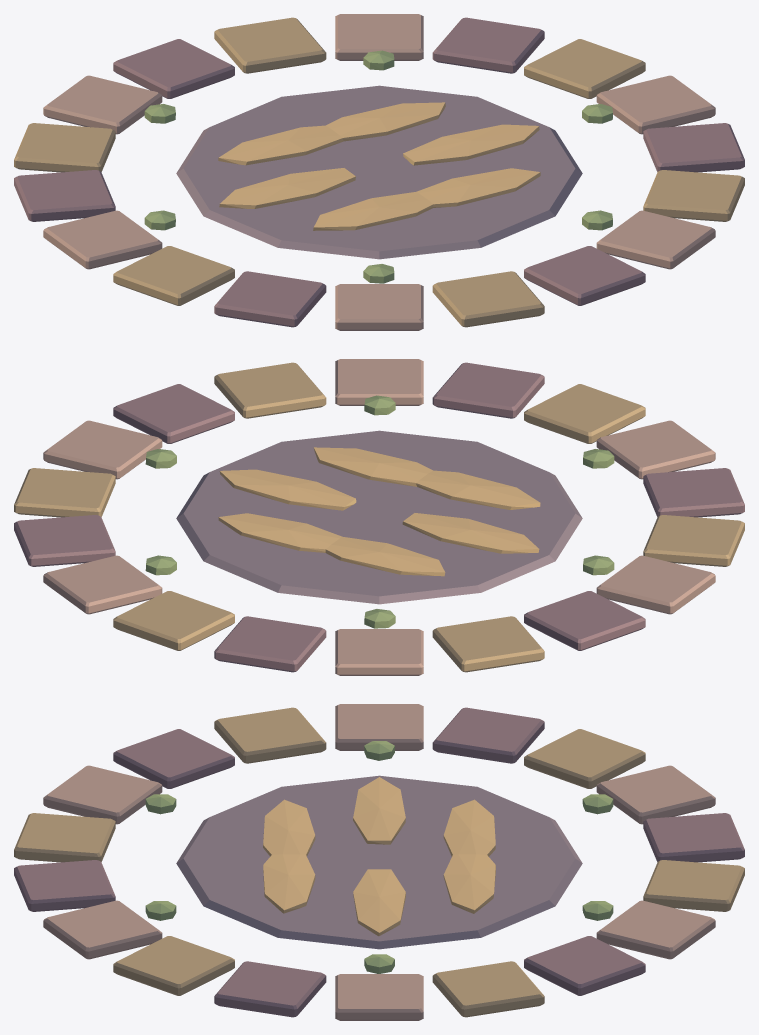
The model's file is dusk_rosette.glb.
The picture shows the model from 3 angles, top to bottom: view 1: azimuth 30°, elevation 25°; view 2: azimuth 150°, elevation 25°; view 3: azimuth 270°, elevation 25°; orthographic projection.
Parts seen in each view (by area): view 1: Dämmergänge · Steinrosette; view 2: Dämmergänge · Steinrosette; view 3: Dämmergänge · Steinrosette.
Part boxes in pixels (x1,y1,x2,y2): Dämmergänge · Steinrosette: [14, 14, 744, 330]; Dämmergänge · Steinrosette: [14, 359, 744, 675]; Dämmergänge · Steinrosette: [14, 704, 744, 1020].
Size of the model in its own units: 2 by 0.055 by 2.01.
